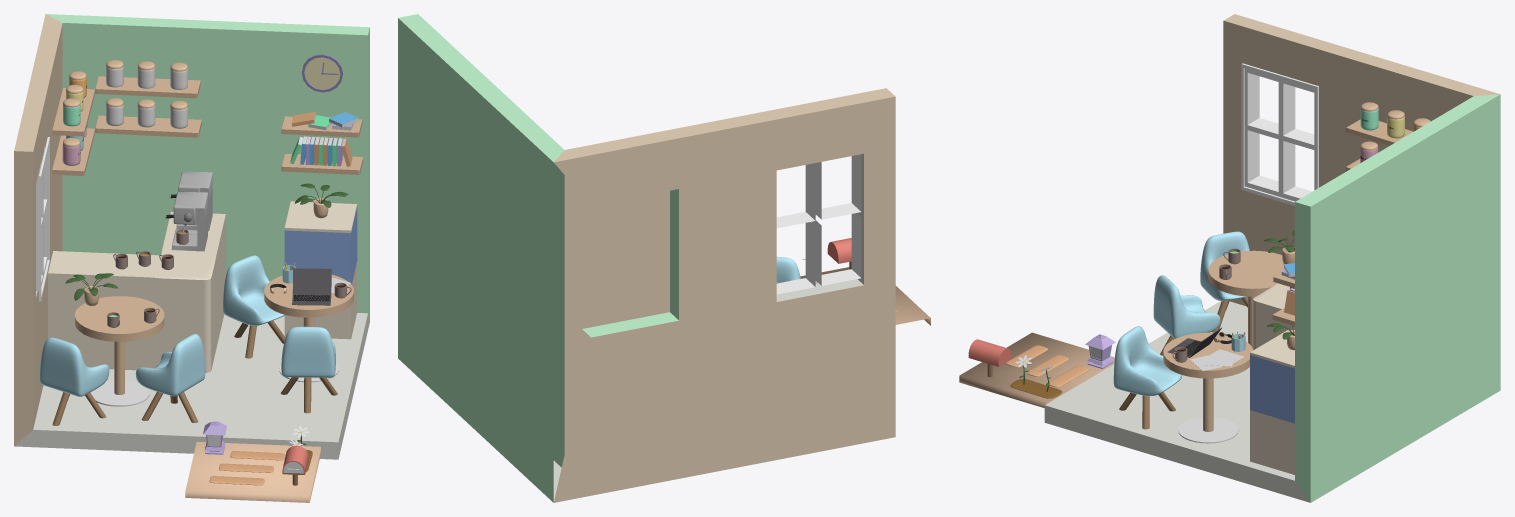
File: cafe_3.glb
3 views of the same model, side by side, from view 1: azimuth 30°, elevation 25°; view 2: azimuth 150°, elevation 25°; view 3: azimuth 270°, elevation 25° (orthographic). The views are drawn at different scales.
Visible parts, largest first — view 1: roomcube, order place, roomcube.001, Circle, Cube.010, Cube.007, Cube.004, Cube.009, Cube.018, tank, Circle.002, Plane.010 (+27 smaller); view 2: roomcube, Plane.010, roomcube.001; view 3: roomcube, Plane.010, roomcube.001, Circle.002, Cube.009, Cube.018, Circle, Cube.007, tank, Cube.004, order place, Cylinder.030 (+2 smaller).
Boxes of the visible parts, x1,y1,x2,y2 form: roomcube: [14, 14, 369, 459]; order place: [48, 211, 225, 372]; roomcube.001: [185, 441, 320, 502]; Circle: [75, 296, 164, 406]; Cube.010: [223, 255, 285, 358]; Cube.007: [135, 334, 205, 422]; Cube.004: [40, 337, 109, 425]; Cube.009: [280, 326, 337, 413]; Cube.018: [284, 201, 356, 339]; tank: [284, 207, 357, 284]; Circle.002: [264, 275, 353, 382]; Plane.010: [36, 137, 49, 301]; roomcube: [398, 14, 895, 502]; Plane.010: [776, 154, 861, 294]; roomcube.001: [800, 267, 930, 325]; roomcube: [1044, 14, 1500, 502]; Plane.010: [1241, 63, 1318, 205]; roomcube.001: [959, 332, 1114, 407]; Circle.002: [1163, 332, 1252, 443]; Cube.009: [1113, 326, 1182, 429]; Cube.018: [1250, 329, 1294, 474]; Circle: [1208, 250, 1284, 348]; Cube.007: [1153, 275, 1220, 355]; tank: [1250, 355, 1294, 423]; Cube.004: [1200, 231, 1249, 332]; order place: [1253, 283, 1294, 350]; Cylinder.030: [968, 339, 1011, 366].
Bounding box in the file's own units: 14.41 × 10.33 × 17.11.
